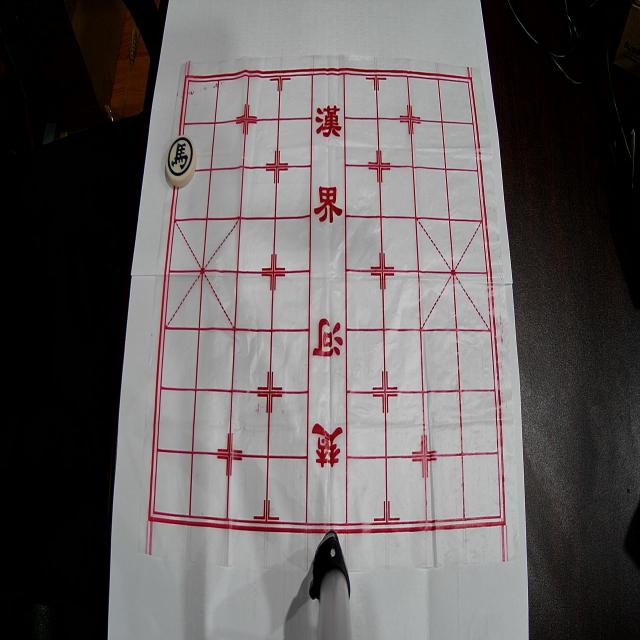black-horse: (166, 135, 196, 187)
